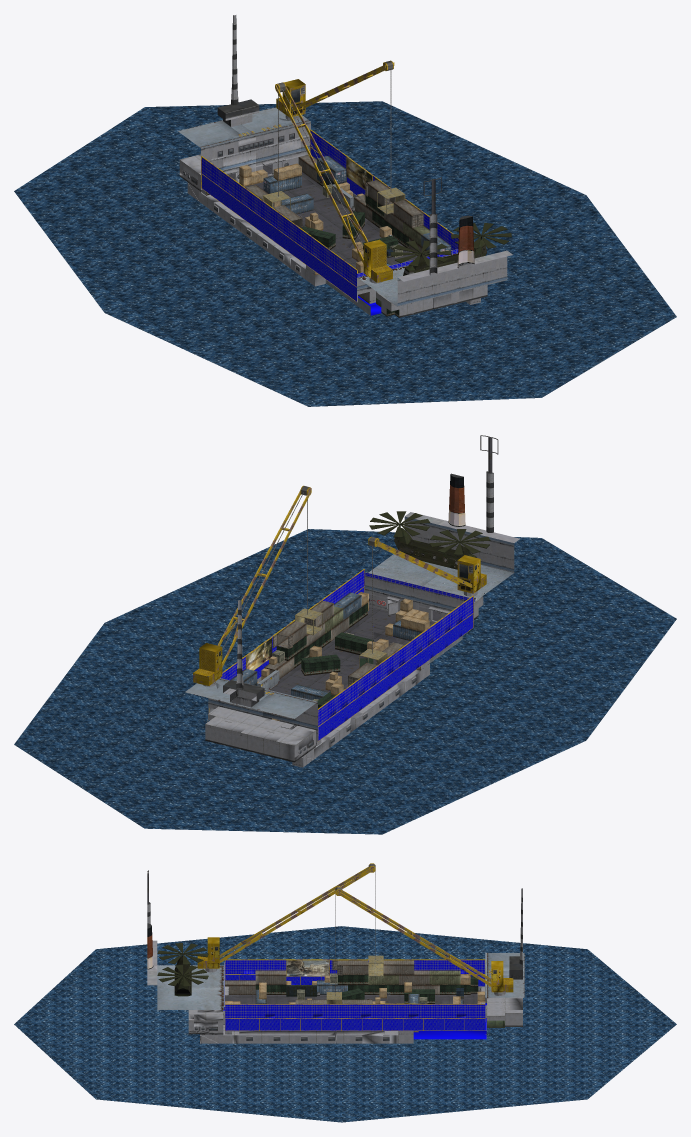
File: ship.glb
3 renders of one model, top to bottom at view 1: azimuth 30°, elevation 25°; view 2: azimuth 150°, elevation 25°; view 3: azimuth 270°, elevation 25°, orthographic. The views are drawn at different scales.
Visible parts, largest first — view 1: model; view 2: model; view 3: model.
Part boxes in pixels (left/top/right/bottom): model: left=14, top=15, right=676, bottom=406; model: left=14, top=435, right=676, bottom=834; model: left=14, top=863, right=676, bottom=1122.
Size of the model in its own units: 4352 by 1581 by 6212.
48 materials, 48 textured.
